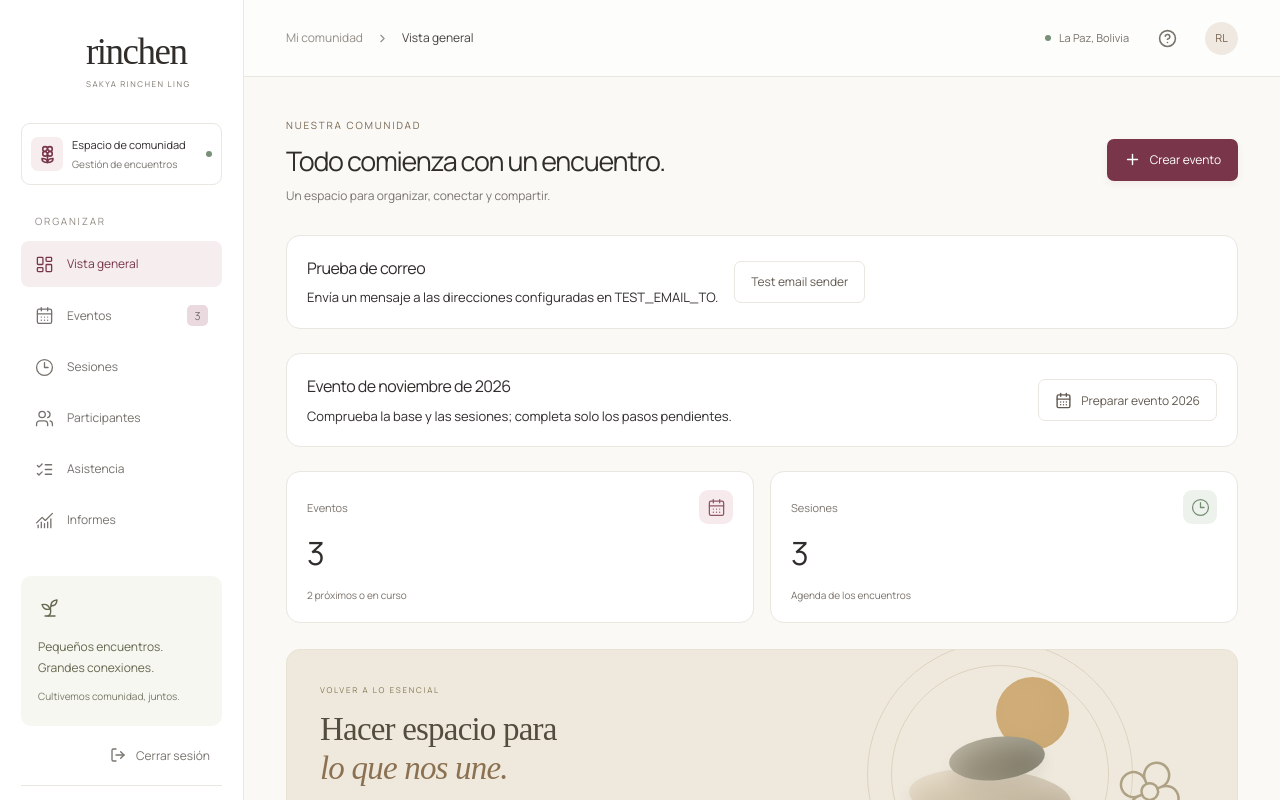
Test: includes the server CSRF token in forms and logout
Expected: the form named "csrf_token" holds "test-csrf-token", [21,726,222,785]
Click the button "Crear evento".
click(1172, 160)  # box [1107,139,1238,181]
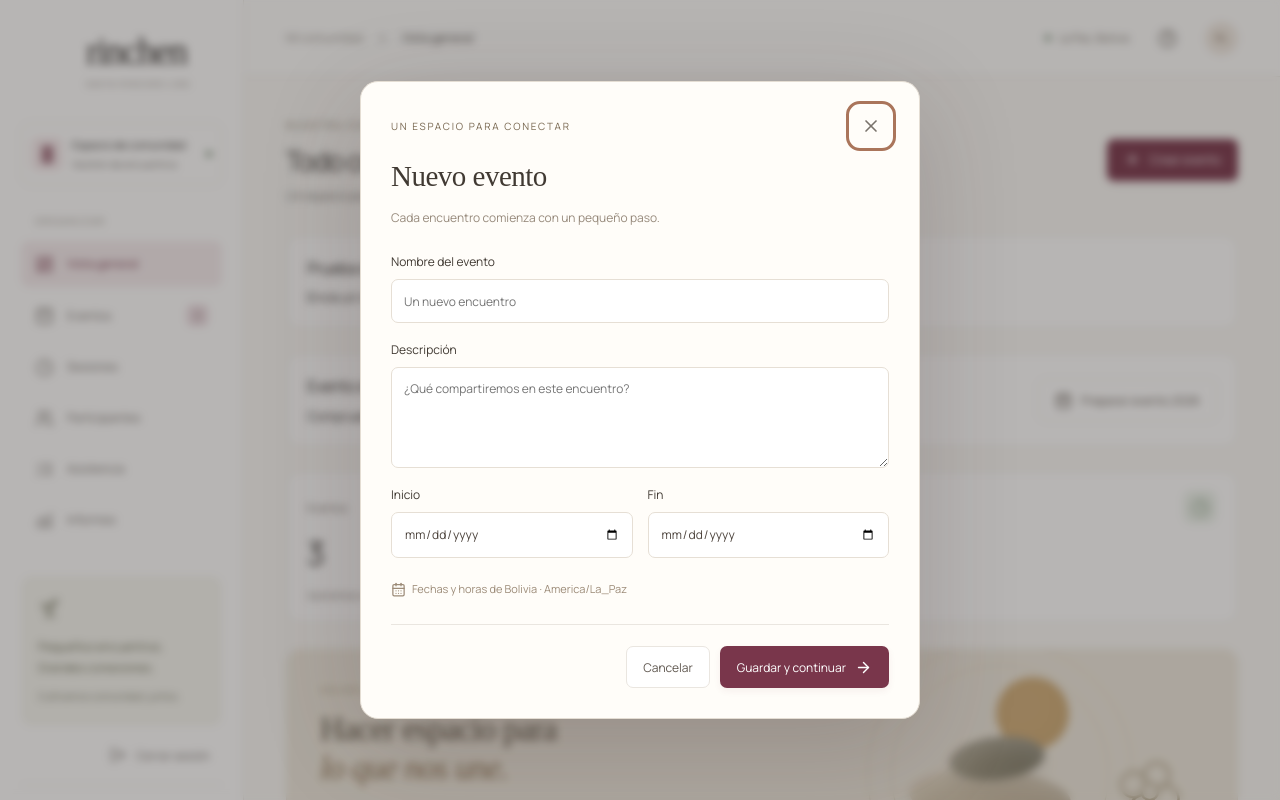
Expected: the form named "csrf_token" holds "test-csrf-token", [391,252,889,688]
